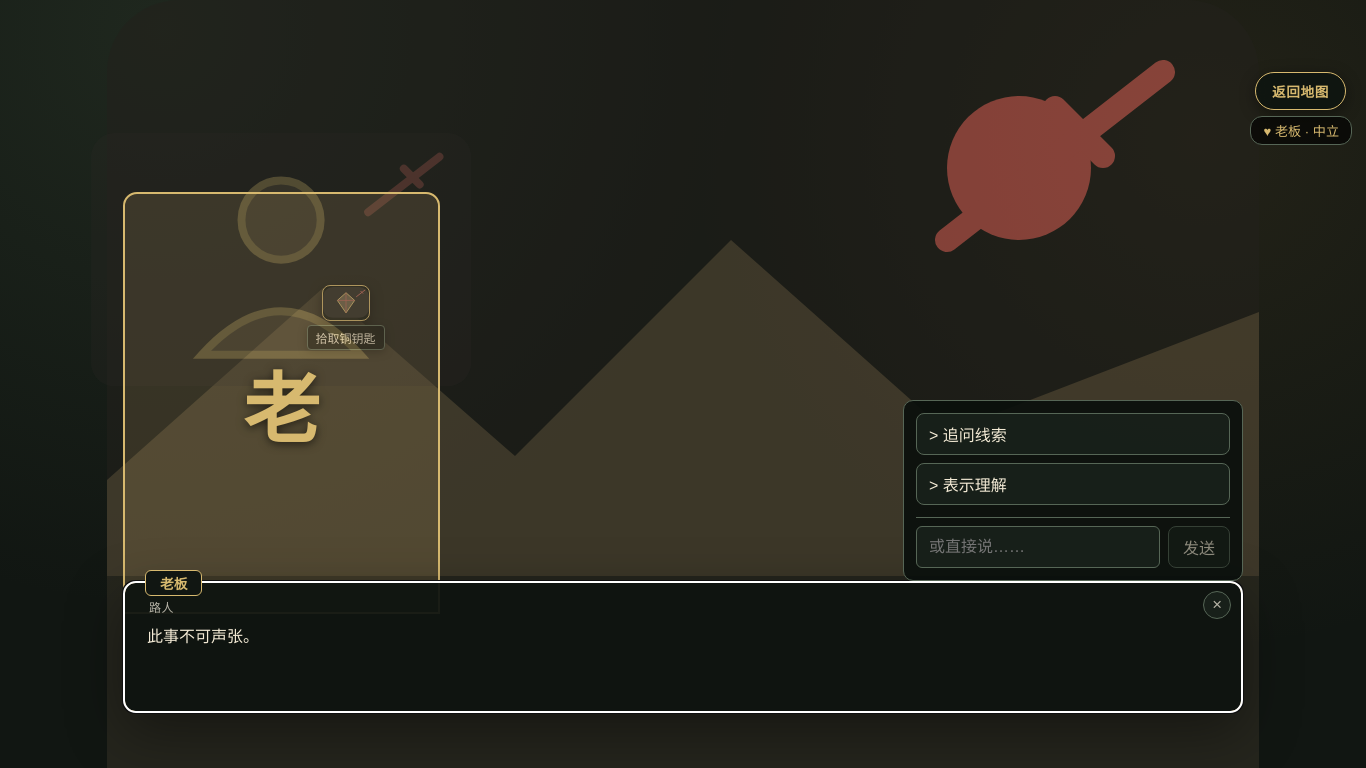
Test case: AdventureGameShell canonical opaque choices › does not repeat a location description when it matches the scene narration
# 测试环境自动打开首个对话；旁注在对话打开时由覆盖层接管整条隐藏，先本地关闭再断言旁注内容。
Click the button named "关闭对话" at (1217, 605), box [1203,591,1231,619]
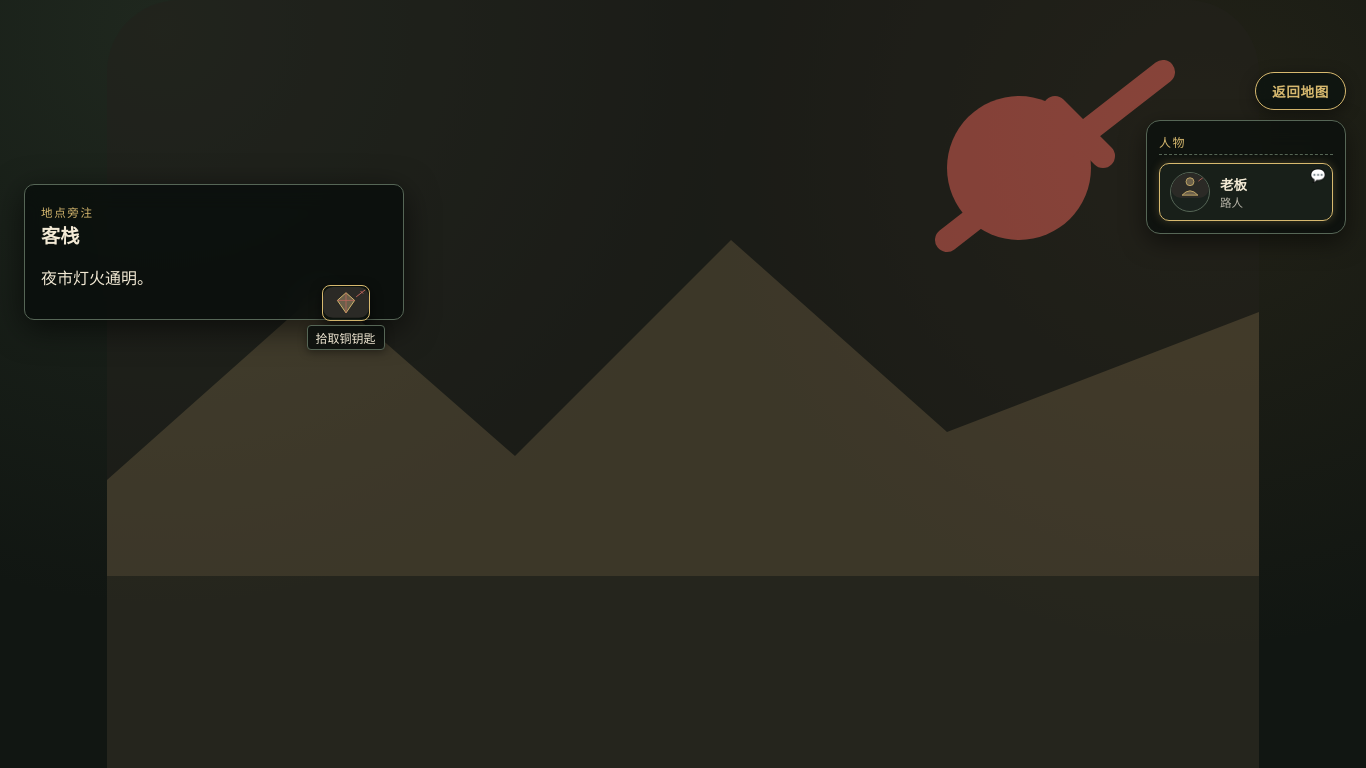
Expected: the text "夜市灯火通明。" is shown once, [41,270,153,287]
